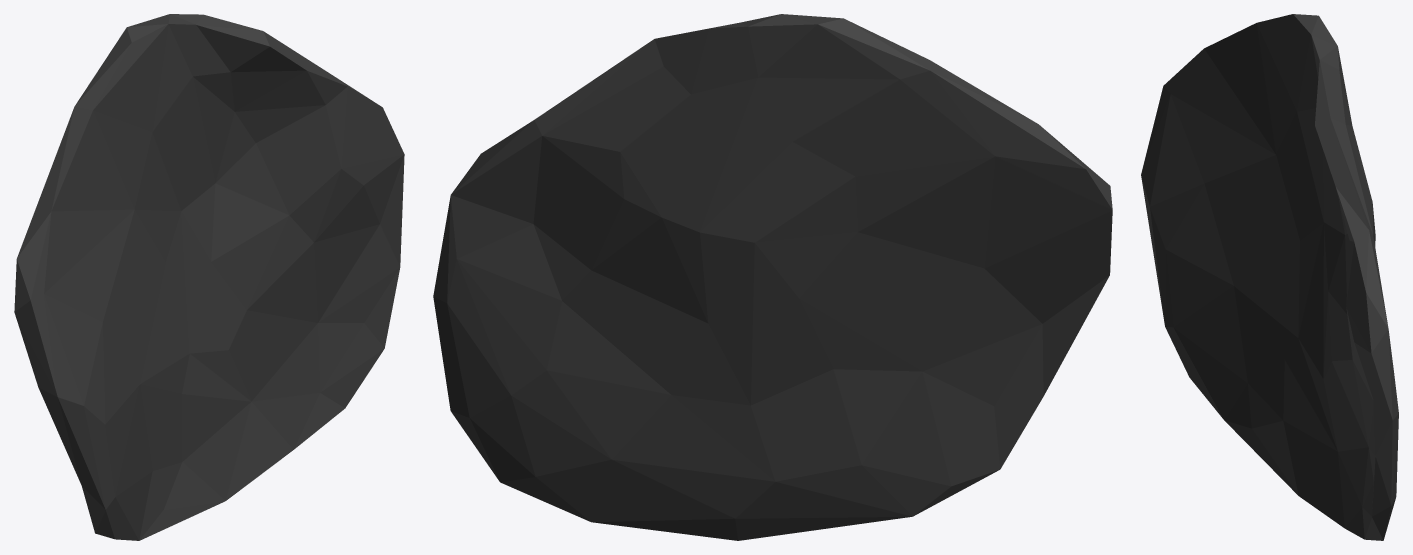
Rendered from Femur_medial_epicondyle.glb.
The picture shows the model from 3 angles, left to right: view 1: azimuth 30°, elevation 25°; view 2: azimuth 150°, elevation 25°; view 3: azimuth 270°, elevation 25°; orthographic projection. The views are drawn at different scales.
Parts seen in each view (by area): view 1: Femur_medial_epicondyle; view 2: Femur_medial_epicondyle; view 3: Femur_medial_epicondyle.
Boxes of the visible parts, x1,y1,x2,y2 form: Femur_medial_epicondyle: [14, 14, 404, 540]; Femur_medial_epicondyle: [433, 14, 1112, 540]; Femur_medial_epicondyle: [1141, 14, 1398, 540].
Bounding box in the file's own units: 0.0269 × 0.0253 × 0.0132.
1 material, 1 textured.
